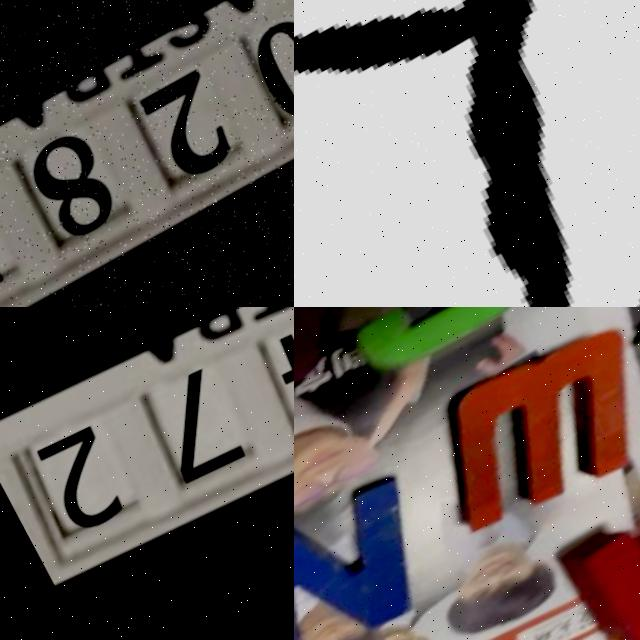0: (233, 0, 294, 146)
2: (19, 405, 156, 555), (128, 58, 262, 205)
4: (253, 307, 294, 452)
5: (0, 178, 33, 307)
7: (133, 349, 272, 502)
8: (12, 113, 145, 261)
A: (556, 454, 640, 640)
C: (316, 307, 558, 386)
N: (294, 459, 456, 640)
W: (395, 308, 640, 558)
